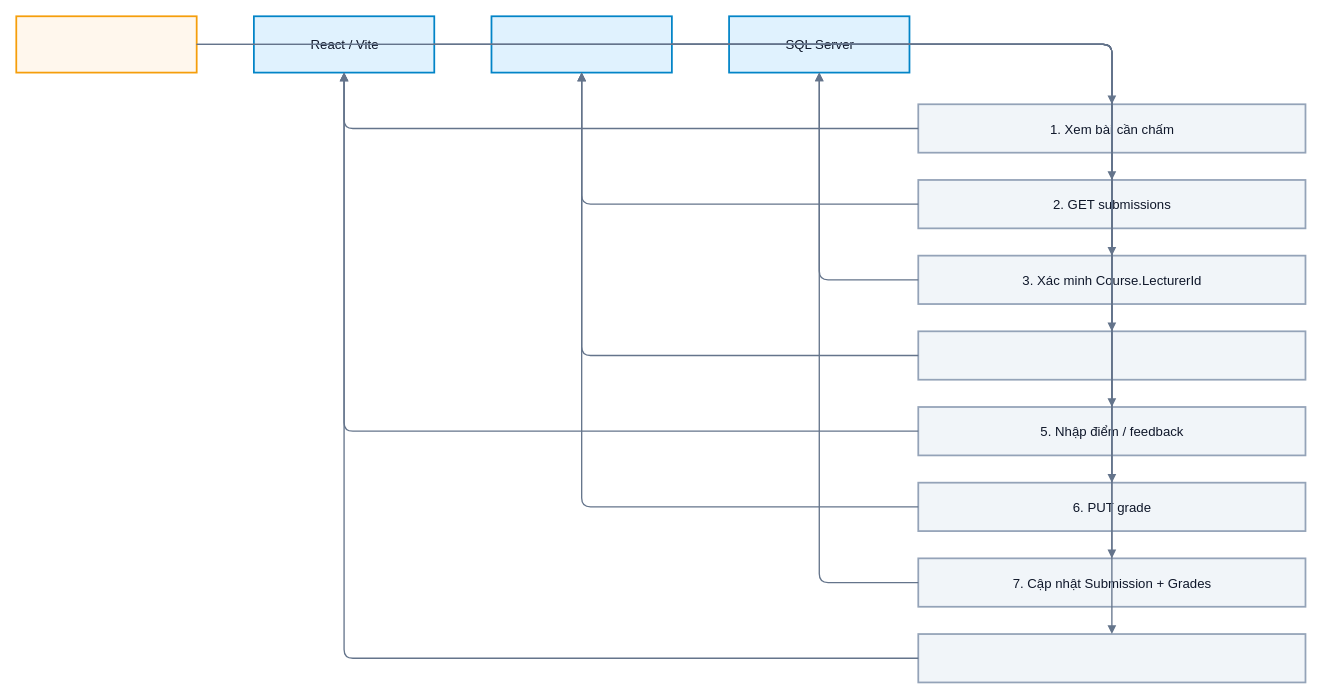
This 1321x698 diagram has some shape labels left out. Each missing label, with the box of its shape:
4. Danh sách bài: (917, 330, 1306, 380)
8. Kết quả chấm bài: (917, 633, 1306, 683)
FastAPI: (490, 15, 672, 73)
Giảng viên: (15, 15, 197, 73)
